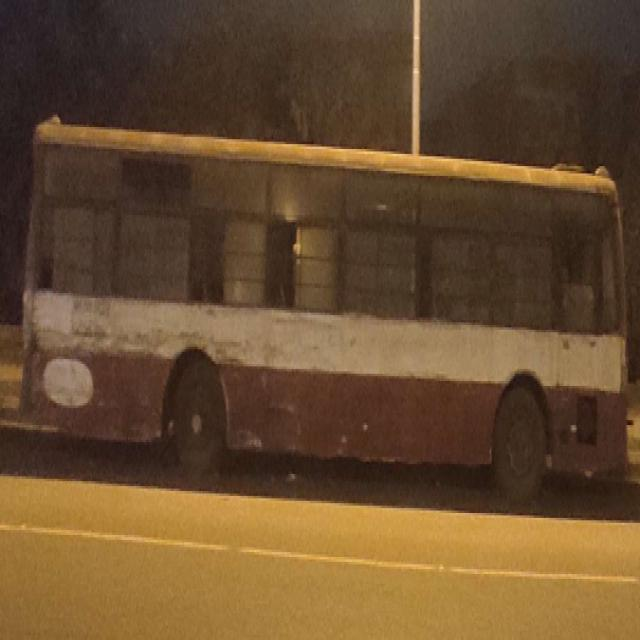bus: (26, 98, 630, 510)
